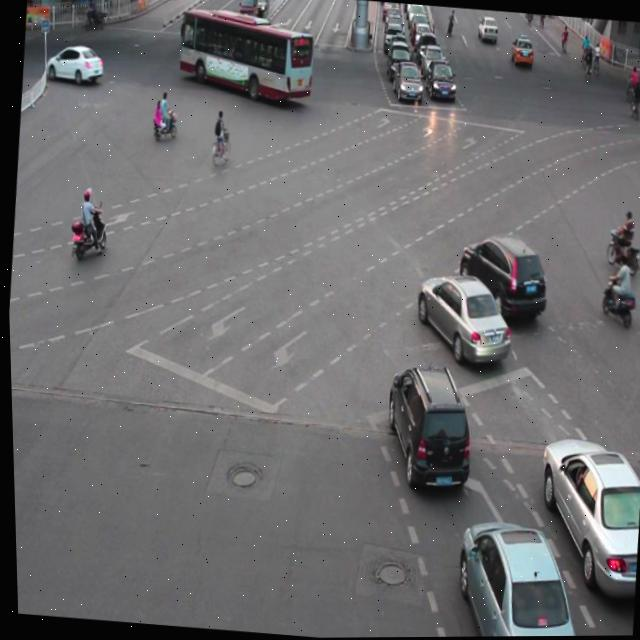car: (525, 432, 640, 600), (444, 512, 585, 637), (379, 360, 473, 490), (408, 268, 513, 368), (451, 228, 549, 324)
van: (175, 8, 315, 103)
